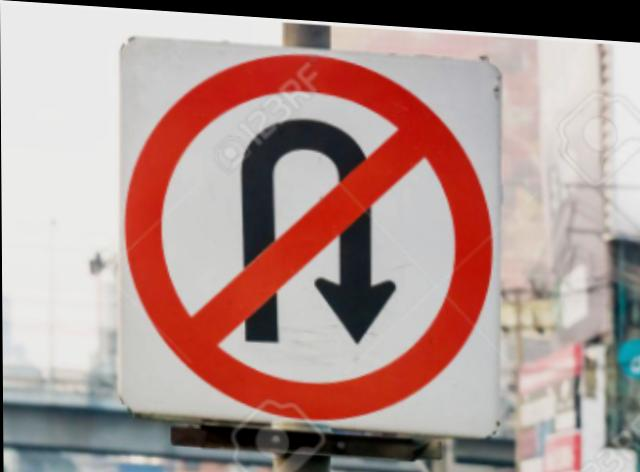not_u_turn_right: (111, 18, 496, 429)
